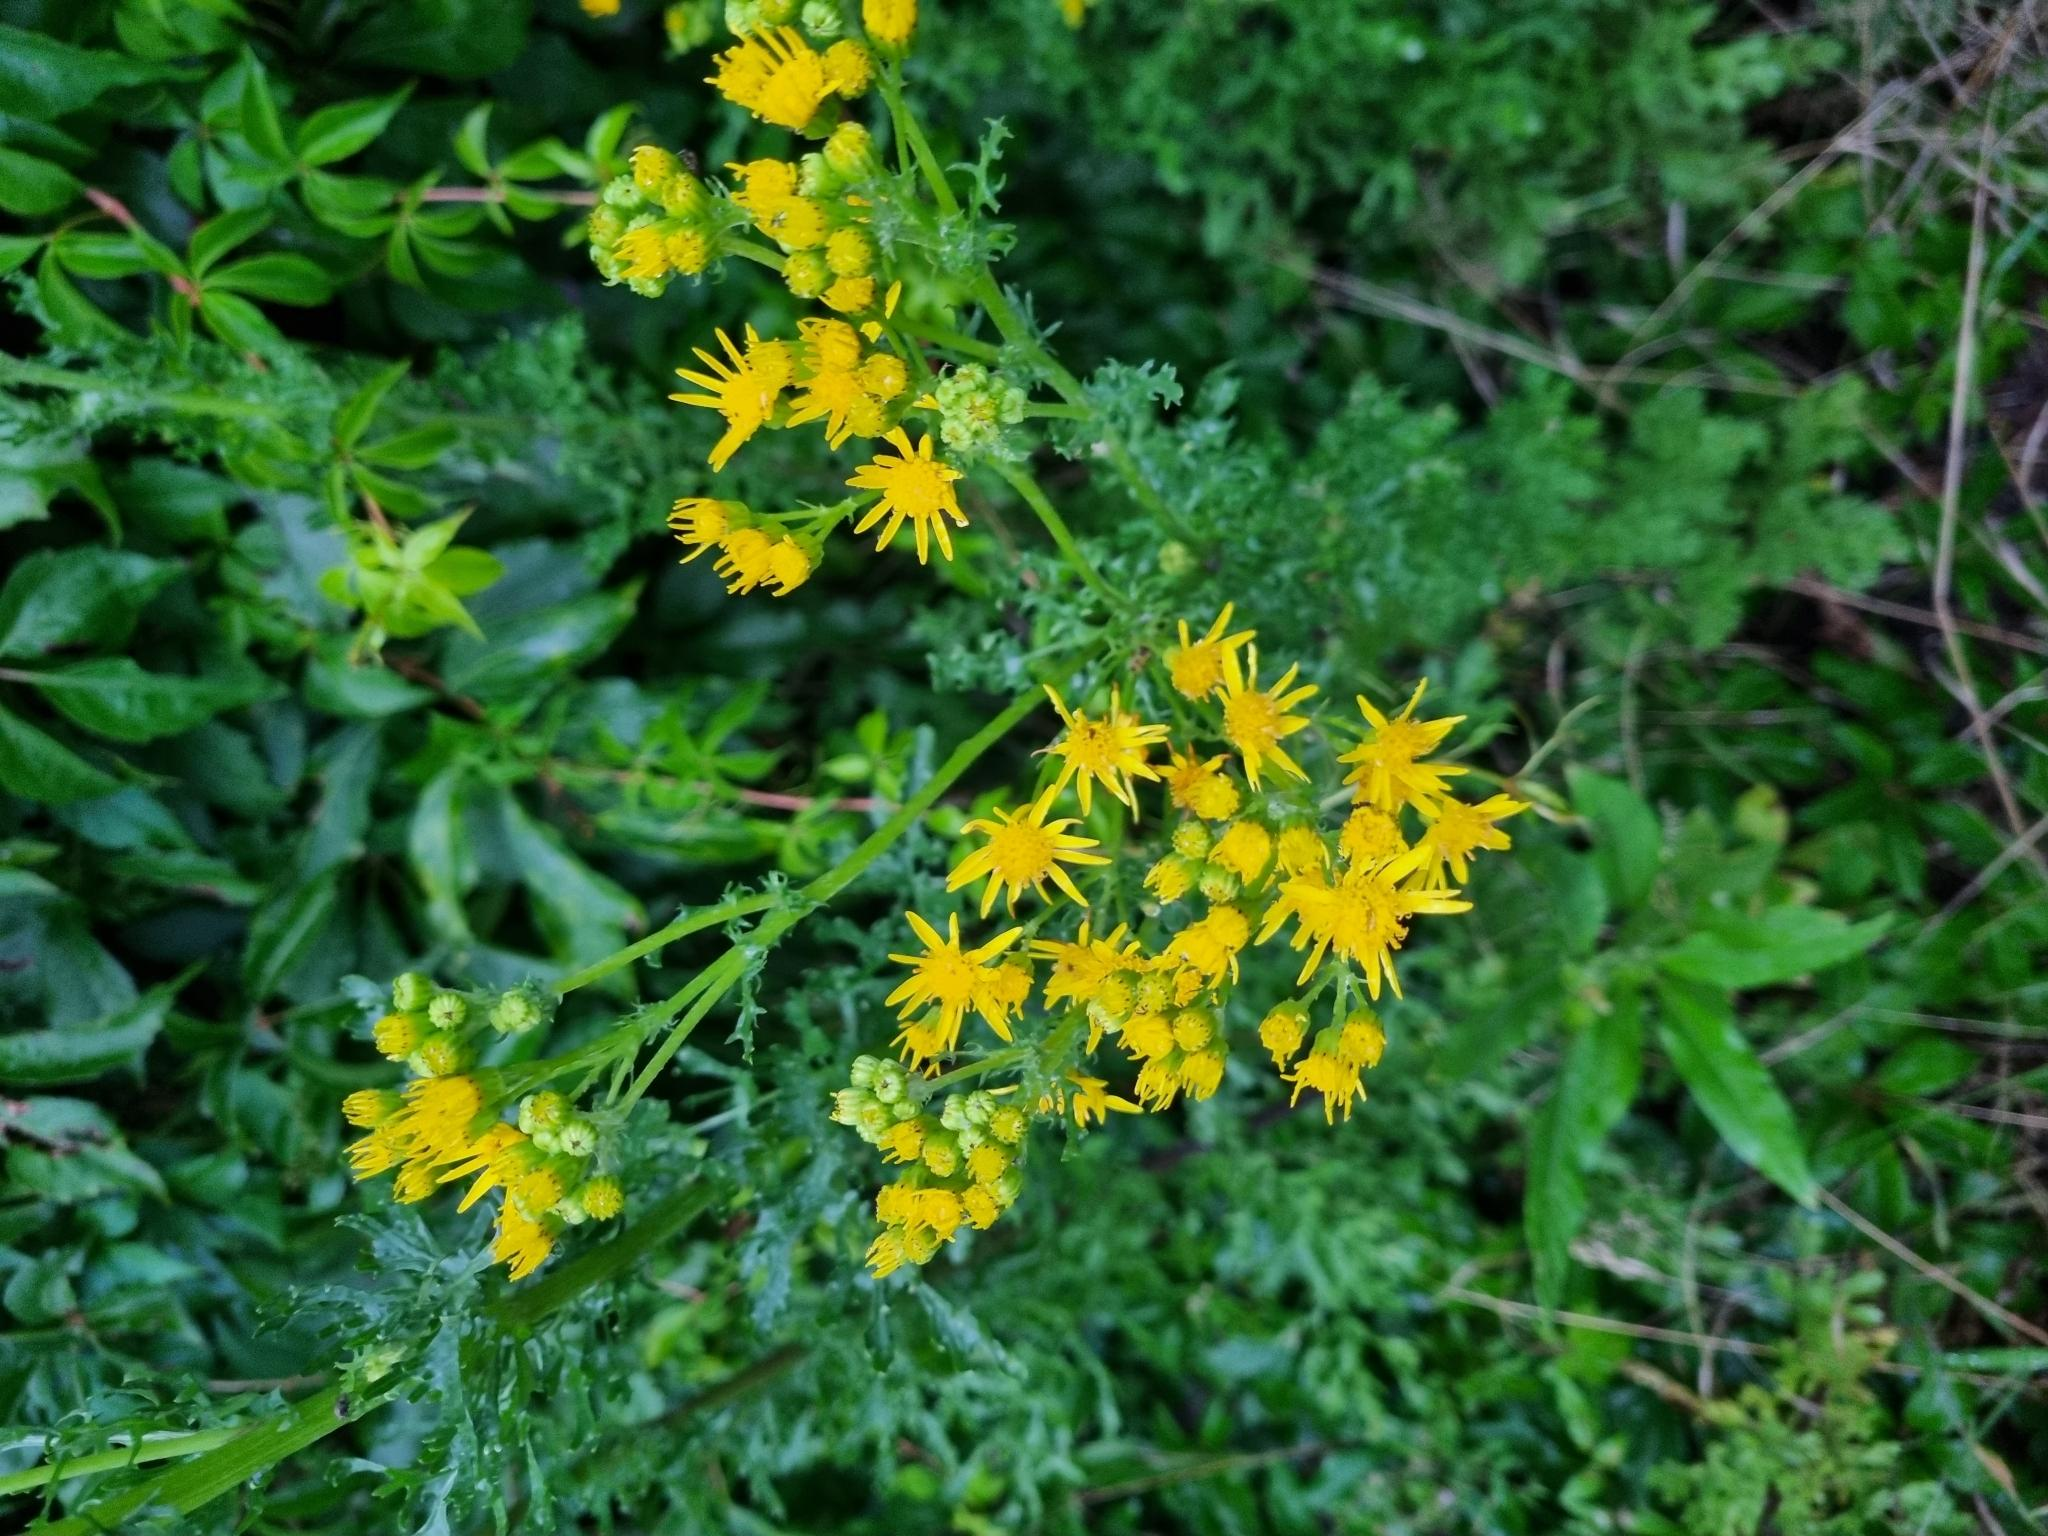Jacobaea vulgaris: (368, 610, 1563, 1347), (555, 0, 1822, 650)
